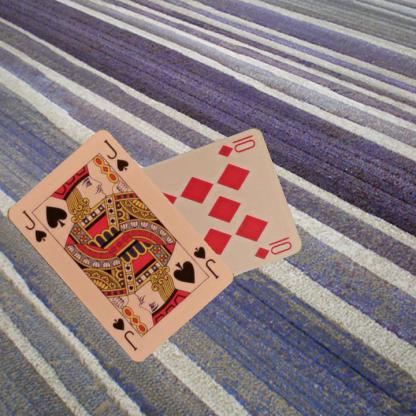10d: (215, 131, 257, 158)
Js: (18, 207, 48, 244), (190, 243, 220, 280)
